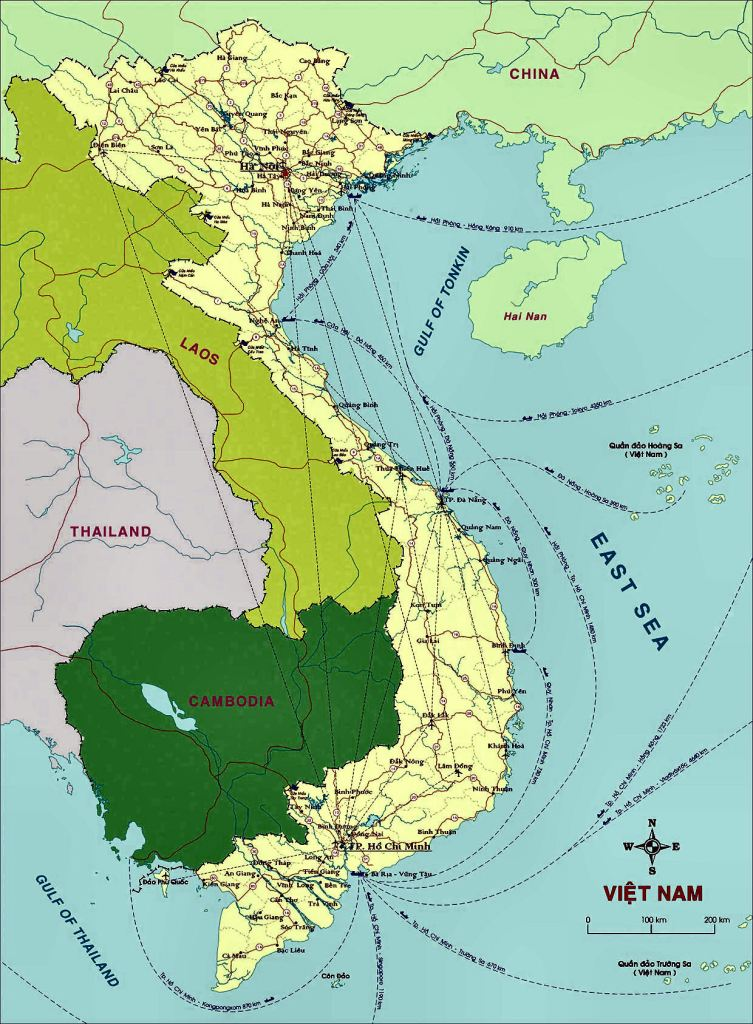Island: (601, 414, 752, 533), (598, 935, 753, 1016)
